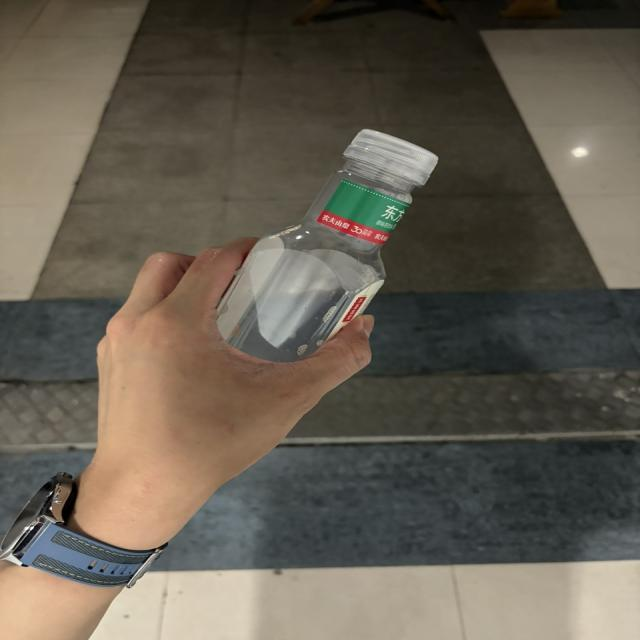empty: (217, 130, 437, 362)
